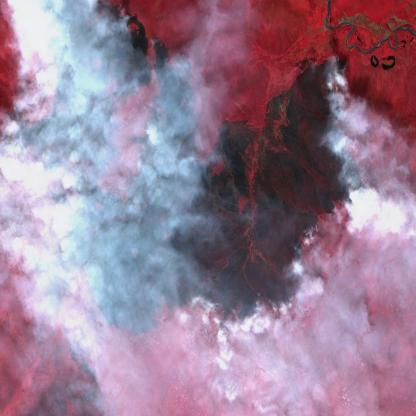fire: (0, 51, 370, 344)
